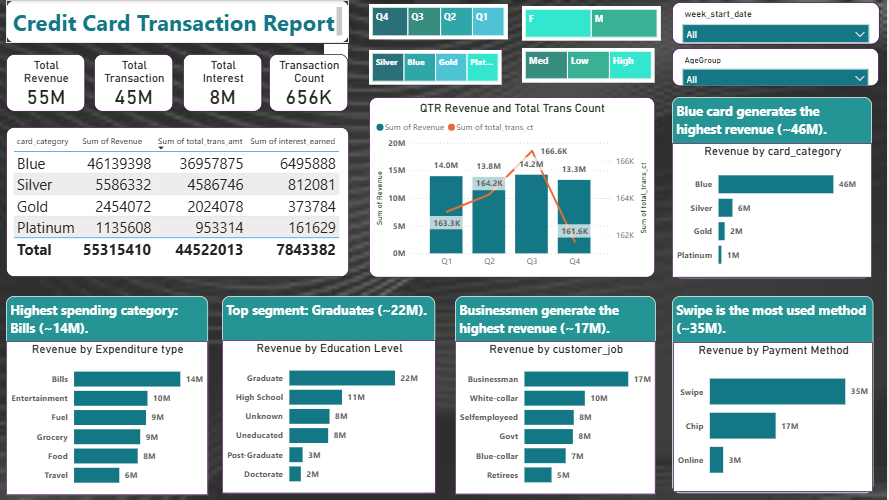

What the dashboard file says about the page in this screenshot:
{"tool":"powerbi","page":{"name":"credit_card_report","canvas":[1280,720],"ordinal":1},"visuals":[{"type":"textbox","box":[969.1,139.7,288,260.6],"z":0},{"type":"textbox","box":[969.1,426.2,290,283.7],"z":1000},{"type":"textbox","box":[656.6,426.2,289.4,283.7],"z":2000},{"type":"textbox","box":[321.1,426.2,306.7,283.7],"z":3000},{"type":"textbox","box":[10.1,426.2,290.9,283.7],"z":4000},{"type":"barChart","title":" Revenue by Expenditure type","fields":{"Category":["public credit_card_data2.exp_type"],"Y":["Sum(public credit_card_data2.Revenue)"]},"box":[10.1,491,290.9,221.8],"z":5000},{"type":"textbox","box":[9.6,0,494.1,61.9],"z":6000},{"type":"lineStackedColumnComboChart","title":"QTR Revenue and Total Trans Count","fields":{"Category":["public credit_card_data2.qtr"],"Y":["Sum(public credit_card_data2.Revenue)"],"Y2":["Sum(public credit_card_data2.total_trans_vol)"]},"box":[532.6,139,411.5,260.1],"z":7000},{"type":"barChart","title":" Revenue by Education Level","fields":{"Category":["public customers.education_level"],"Y":["Sum(public credit_card_data2.Revenue)"]},"box":[320.7,489.6,307.6,221.2],"z":8000},{"type":"barChart","title":" Revenue by customer_job","fields":{"Category":["public customers.customer_job"],"Y":["Sum(public credit_card_data2.Revenue)"]},"box":[657.2,490.9,289.3,221.2],"z":9000},{"type":"barChart","title":" Revenue by card_category","fields":{"Category":["public credit_card_data2.card_category"],"Y":["Sum(public credit_card_data2.Revenue)"]},"box":[969.1,205.9,288,194.4],"z":10000},{"type":"barChart","title":" Revenue by Payment Method","fields":{"Category":["public credit_card_data2.use_chip"],"Y":["Sum(public credit_card_data2.Revenue)"]},"box":[970.6,492.5,288,216],"z":11000},{"type":"tableEx","fields":{"Values":["public credit_card_data2.card_category","Sum(public credit_card_data2.Revenue)","Sum(public credit_card_data2.total_trans_amt)","Sum(public credit_card_data2.interest_earned)"]},"box":[9.6,183.1,494.1,216.1],"z":12000},{"type":"card","title":"Total Revenue","fields":{"Values":["Sum(public credit_card_data2.Revenue)"]},"box":[9.6,77.1,114.2,82.6],"z":13000},{"type":"card","title":"Total Transaction","fields":{"Values":["Sum(public credit_card_data2.total_trans_amt)"]},"box":[136.3,77.1,114.2,82.6],"z":14000},{"type":"card","title":"Total Interest","fields":{"Values":["Sum(public credit_card_data2.interest_earned)"]},"box":[264.3,77.1,114.2,82.6],"z":15000},{"type":"card","title":" Transaction Count","fields":{"Values":["Sum(public credit_card_data2.total_trans_vol)"]},"box":[389.5,77.1,114.2,82.6],"z":16000},{"type":"slicer","fields":{"Values":["public credit_card_data2.week_start_date"]},"box":[968.9,2.8,298.7,60.6],"z":17000},{"type":"treemap","fields":{"Group":["public credit_card_data2.qtr"],"Values":["Avg(public credit_card_data2.client_num)"]},"box":[532.6,5.5,199.6,50.9],"z":18000},{"type":"treemap","fields":{"Group":["public credit_card_data2.card_category"],"Values":["Avg(public credit_card_data2.client_num)"]},"box":[532.6,71.6,191,50],"z":19000},{"type":"treemap","fields":{"Group":["public customers.IncomeGroup"],"Values":["Avg(public credit_card_data2.client_num)"]},"box":[752.9,68.8,191.3,49.5],"z":20000},{"type":"treemap","fields":{"Group":["public customers.gender"],"Values":["Avg(public credit_card_data2.client_num)"]},"box":[752.9,8.3,199.6,50],"z":21000},{"type":"slicer","fields":{"Values":["public customers.AgeGroup"]},"box":[969.1,69.1,298.1,54.7],"z":22000}]}

Visuals, with their boxes in screenshot pixels (x1, y1, x2, y2), scaled from the page's 1280x720 canvas onto the 889x500 screenshot:
textbox: pyautogui.locateOnScreen(673, 97, 873, 278)
textbox: pyautogui.locateOnScreen(673, 296, 874, 493)
textbox: pyautogui.locateOnScreen(456, 296, 657, 493)
textbox: pyautogui.locateOnScreen(223, 296, 436, 493)
textbox: pyautogui.locateOnScreen(7, 296, 209, 493)
" Revenue by Expenditure type" barChart: pyautogui.locateOnScreen(7, 341, 209, 495)
textbox: pyautogui.locateOnScreen(7, 0, 350, 43)
"QTR Revenue and Total Trans Count" lineStackedColumnComboChart: pyautogui.locateOnScreen(370, 97, 656, 277)
" Revenue by Education Level" barChart: pyautogui.locateOnScreen(223, 340, 436, 494)
" Revenue by customer_job" barChart: pyautogui.locateOnScreen(456, 341, 657, 495)
" Revenue by card_category" barChart: pyautogui.locateOnScreen(673, 143, 873, 278)
" Revenue by Payment Method" barChart: pyautogui.locateOnScreen(674, 342, 874, 492)
tableEx - public credit_card_data2.card_category x Sum(public credit_card_data2.Revenue): pyautogui.locateOnScreen(7, 127, 350, 277)
"Total Revenue" card: pyautogui.locateOnScreen(7, 54, 86, 111)
"Total Transaction" card: pyautogui.locateOnScreen(95, 54, 174, 111)
"Total Interest" card: pyautogui.locateOnScreen(184, 54, 263, 111)
" Transaction Count" card: pyautogui.locateOnScreen(271, 54, 350, 111)
slicer - public credit_card_data2.week_start_date: pyautogui.locateOnScreen(673, 2, 880, 44)
treemap - public credit_card_data2.qtr x Avg(public credit_card_data2.client_num): pyautogui.locateOnScreen(370, 4, 509, 39)
treemap - public credit_card_data2.card_category x Avg(public credit_card_data2.client_num): pyautogui.locateOnScreen(370, 50, 503, 84)
treemap - public customers.IncomeGroup x Avg(public credit_card_data2.client_num): pyautogui.locateOnScreen(523, 48, 656, 82)
treemap - public customers.gender x Avg(public credit_card_data2.client_num): pyautogui.locateOnScreen(523, 6, 662, 40)
slicer - public customers.AgeGroup: pyautogui.locateOnScreen(673, 48, 880, 86)
